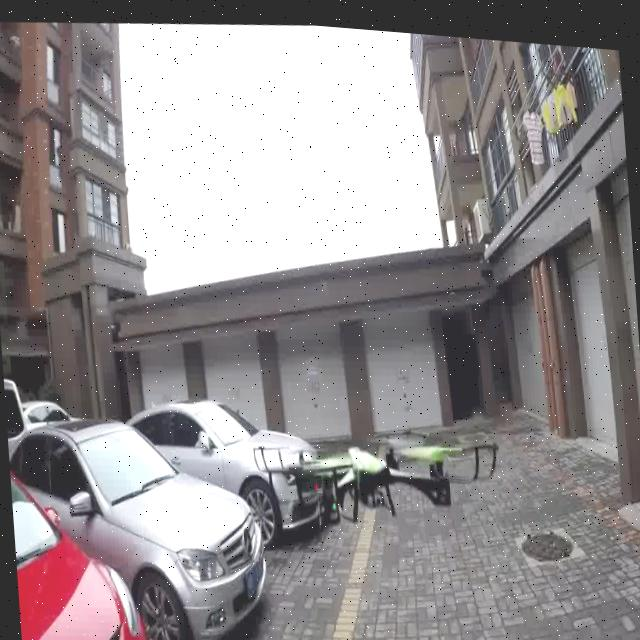drone: (234, 380, 516, 568)
